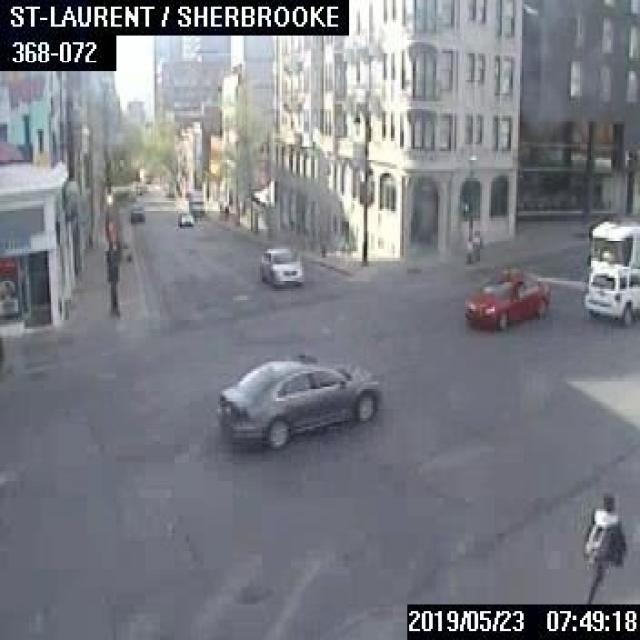pedestrian: (580, 491, 625, 600), (471, 227, 480, 262)
vehicle: (214, 349, 378, 445), (464, 268, 553, 329), (580, 263, 638, 325), (586, 214, 638, 281), (260, 244, 302, 284), (185, 187, 202, 217), (129, 202, 144, 222), (177, 211, 193, 225)
